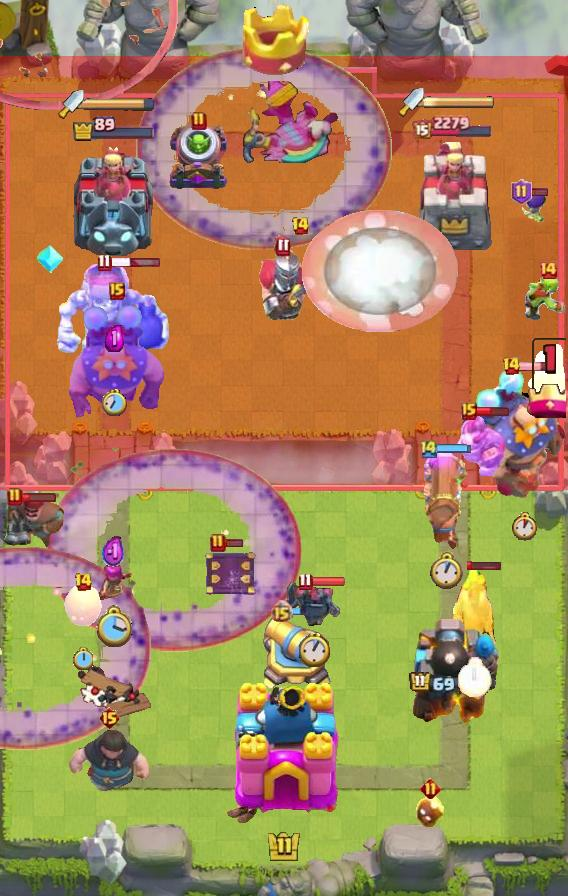bar: (70, 142, 158, 256), (412, 140, 494, 256)
battle-healer: (423, 448, 469, 552)
battle-ram: (283, 580, 345, 628)
bomber: (413, 792, 447, 830)
cannon: (93, 564, 133, 604)
electro-giant: (55, 260, 173, 378)
electro-spirit: (102, 534, 125, 569), (104, 324, 123, 351)
elixir: (95, 605, 132, 649), (458, 657, 492, 697), (429, 552, 462, 590), (299, 632, 329, 667), (511, 512, 539, 541), (101, 389, 126, 416), (73, 646, 93, 670)
elixir-golem-small: (455, 416, 509, 476)
emote: (109, 257, 161, 268), (474, 405, 509, 417), (437, 442, 472, 454), (517, 360, 555, 371), (21, 493, 57, 504), (310, 577, 346, 588), (467, 560, 502, 571), (290, 607, 310, 618), (530, 187, 549, 197), (225, 538, 244, 548)
goblin: (522, 189, 548, 225)
goblin-cage: (167, 122, 231, 192)
goblin-hut: (454, 569, 498, 652)
hog: (63, 584, 103, 628)
ice-spirit-evolution-symbol: (203, 548, 257, 598)
king-tower: (222, 680, 346, 826)
king-tower-bar: (424, 95, 496, 109), (84, 97, 156, 111)
little-prince: (460, 367, 568, 501), (64, 304, 170, 426)
pad_2: (35, 244, 65, 274)
phoenix-small: (0, 493, 68, 551)
rocket: (136, 47, 392, 251), (46, 448, 302, 652), (1, 546, 152, 750)
royal-hog: (66, 730, 152, 804)
royal-recruit: (260, 614, 336, 694)
selected: (72, 116, 156, 142), (412, 113, 494, 139), (409, 671, 497, 695)
skeleton-barrel: (0, 0, 178, 112)
text: (99, 706, 122, 730), (511, 179, 532, 205), (271, 601, 294, 624), (419, 777, 440, 798), (419, 437, 439, 459), (290, 216, 310, 236), (538, 260, 558, 280), (502, 356, 521, 376), (74, 572, 93, 592), (191, 111, 207, 131), (7, 487, 23, 507), (210, 533, 226, 553), (109, 282, 125, 300), (461, 402, 477, 420), (97, 253, 112, 272), (298, 573, 313, 592)
tombstone: (525, 341, 567, 399)
tower-bar: (406, 611, 500, 731)
wall-breaker: (302, 210, 458, 332)
wall-breaker-evolution: (257, 234, 343, 326)
zap: (524, 272, 568, 322)
